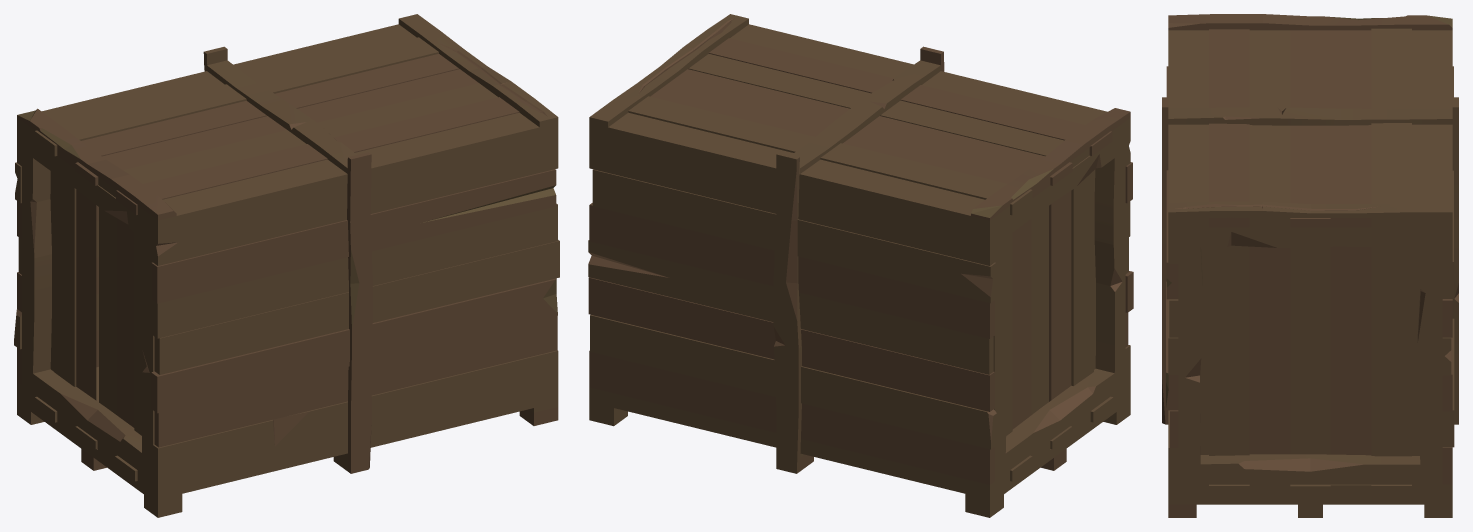
File: SM_Small_Wood_Box_Closed.glb
3 renders of one model, left to right at view 1: azimuth 30°, elevation 25°; view 2: azimuth 150°, elevation 25°; view 3: azimuth 270°, elevation 25°, orthographic.
Parts seen in each view (by area): view 1: SM_Small_Wood_Box_Closed; view 2: SM_Small_Wood_Box_Closed; view 3: SM_Small_Wood_Box_Closed.
Boxes of the visible parts, x1,y1,x2,y2 form: SM_Small_Wood_Box_Closed: (14, 14, 559, 517); SM_Small_Wood_Box_Closed: (588, 14, 1133, 517); SM_Small_Wood_Box_Closed: (1162, 14, 1458, 517).
Size of the model in its own units: 0.9987 by 0.7387 by 0.6267.
Materials: 1 (1 with a texture image).
